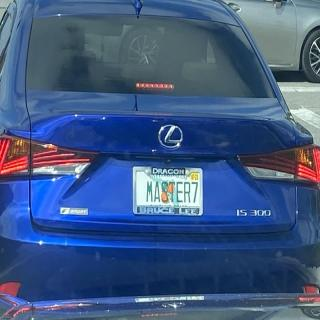license: (133, 167, 204, 218)
